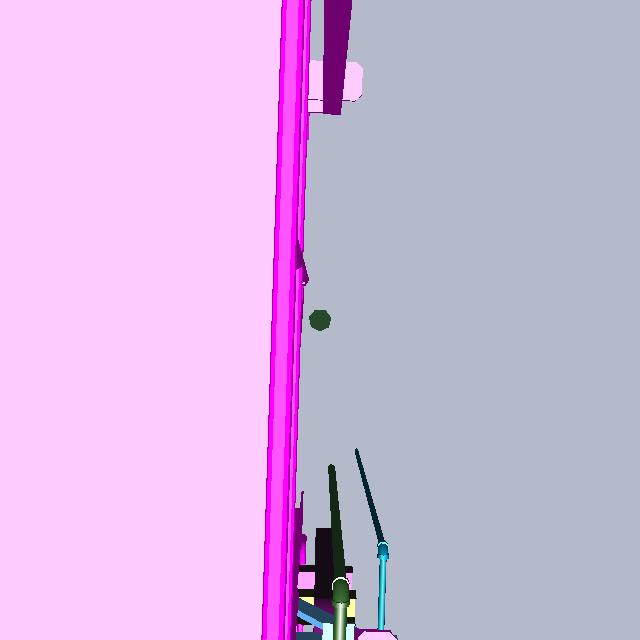Poste: (302, 301, 347, 344)
Soporte: (269, 1, 378, 125)
